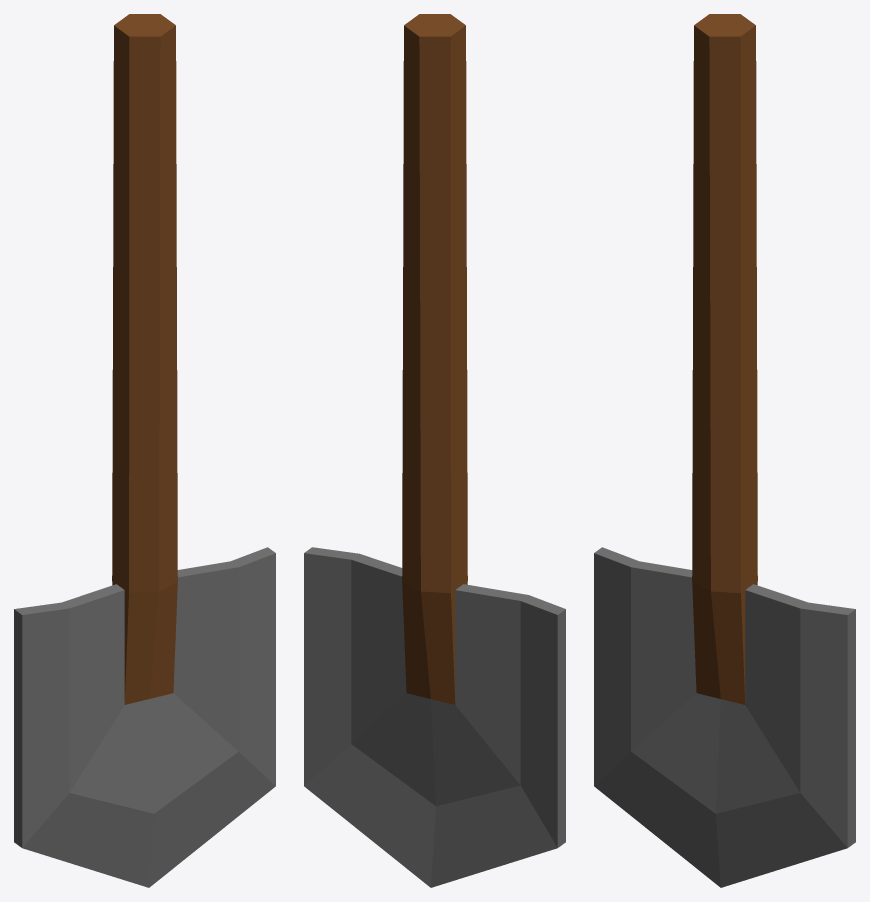
Rendered from Shovel.fbx.
3 renders of one model, left to right at view 1: azimuth 30°, elevation 25°; view 2: azimuth 150°, elevation 25°; view 3: azimuth 330°, elevation 25°, orthographic.
Parts seen in each view (by area): view 1: Shovel; view 2: Shovel; view 3: Shovel.
Boxes of the visible parts, x1,y1,x2,y2 form: Shovel: [14, 14, 275, 887]; Shovel: [304, 14, 565, 887]; Shovel: [594, 14, 855, 887].
Bounding box in the file's own units: 0.7286 × 2.36 × 0.1544.
